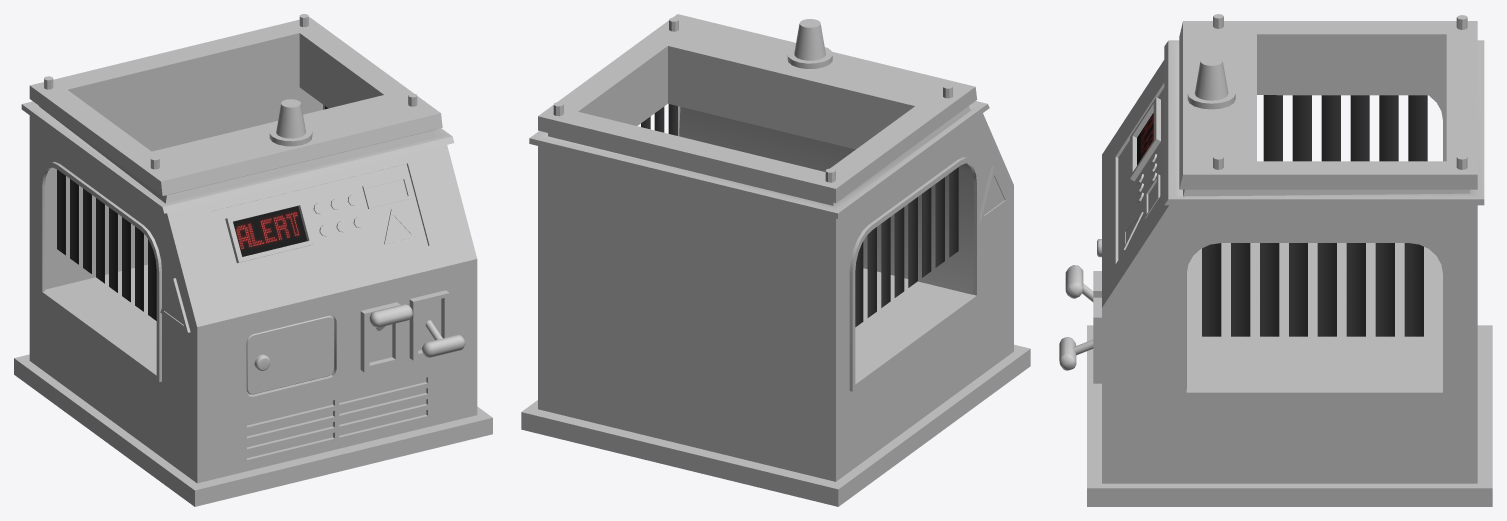
File: Machn_v3_1.fbx
3 views of the same model, side by side, from view 1: azimuth 30°, elevation 25°; view 2: azimuth 150°, elevation 25°; view 3: azimuth 270°, elevation 25° (orthographic). The views are drawn at different scales.
Parts seen in each view (by area): view 1: Machn_v3_1, Plane_1.008, AlertOrange.001, Pc_1_2, Pc_1; view 2: Machn_v3_1, Plane_1.008, AlertOrange.001, Plane_2.008; view 3: Machn_v3_1, Plane_2.008, Plane_1.008, AlertOrange.001, Pc_1_2, Pc_1.
Boxes of the visible parts, x1,y1,x2,y2 form: Machn_v3_1: (14,14,492,506); Plane_1.008: (57,169,156,320); AlertOrange.001: (269,99,312,146); Pc_1_2: (422,320,465,357); Pc_1: (369,304,412,330); Machn_v3_1: (521,14,1030,506); Plane_1.008: (855,167,958,327); AlertOrange.001: (787,19,832,68); Plane_2.008: (641,104,677,135); Machn_v3_1: (1087,14,1492,506); Plane_2.008: (1202,243,1423,336); Plane_1.008: (1263,95,1427,161); AlertOrange.001: (1187,56,1235,109); Pc_1_2: (1059,337,1093,370); Pc_1: (1065,265,1093,302).
Bounding box in the file's own units: 263 × 275 × 295.
